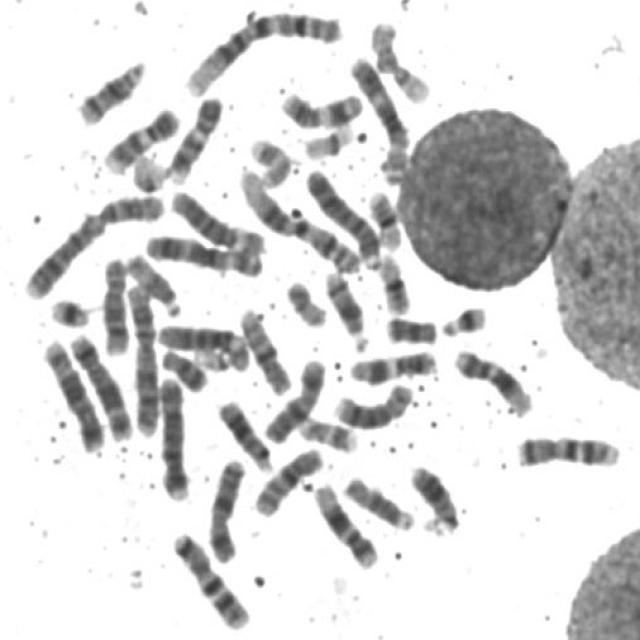A1: (178, 2, 346, 98), (232, 158, 371, 274)
A2: (18, 184, 170, 300), (119, 277, 162, 437)
A3: (344, 46, 414, 181), (139, 225, 268, 278)
B4: (301, 160, 386, 270), (153, 368, 195, 502)
B5: (36, 330, 108, 454), (63, 323, 138, 442)
C10: (249, 439, 328, 518), (234, 300, 297, 396)
C11: (276, 82, 367, 130), (344, 341, 441, 385)
C12: (449, 338, 538, 418), (309, 474, 383, 570)
C6: (167, 181, 269, 256), (152, 315, 254, 373)
C7: (167, 523, 255, 632), (511, 425, 625, 470)
C8: (329, 374, 417, 430), (96, 248, 133, 358)
C9: (99, 99, 183, 175), (165, 88, 228, 185)
D13: (212, 390, 277, 472), (405, 456, 464, 534)
D14: (72, 51, 151, 126), (319, 262, 372, 351)
D15: (339, 467, 419, 532), (119, 245, 185, 318)
E16: (363, 182, 406, 251), (373, 246, 415, 316)
E17: (291, 404, 363, 454), (244, 129, 296, 189)
E18: (156, 340, 212, 393), (380, 307, 442, 347)
F19: (300, 115, 358, 160), (128, 146, 170, 194)
F20: (281, 271, 331, 329), (364, 12, 402, 77)
G21: (436, 296, 492, 339), (44, 289, 95, 329)
G22: (386, 55, 434, 104), (191, 340, 238, 373)
X: (259, 351, 329, 444), (202, 450, 250, 564)
